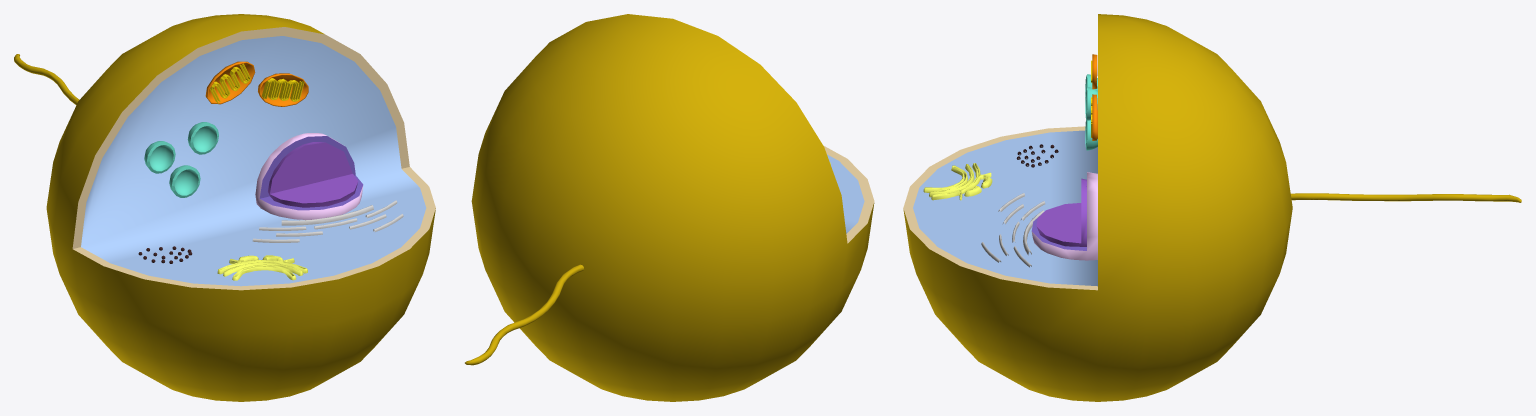
The model's file is animal cell.fbx.
3 views of the same model, side by side, from view 1: azimuth 30°, elevation 25°; view 2: azimuth 150°, elevation 25°; view 3: azimuth 270°, elevation 25° (orthographic). The views are drawn at different scales.
Visible parts, largest first — view 1: Membrana Celular, group_4_ID2442, Mitochondria.041_ID2505.001, Vacuole.006_ID1968, Endoplasmatic reticukum, Golgi_Apparatus.005_ID2373; view 2: Membrana Celular; view 3: Membrana Celular, group_4_ID2442, Golgi_Apparatus.005_ID2373, Endoplasmatic reticukum, Vacuole.006_ID1968, Mitochondria.041_ID2505.001.
Part boxes in pixels (<box>): Membrana Celular: <box>14,14,435,401</box>; group_4_ID2442: <box>255,133,363,219</box>; Mitochondria.041_ID2505.001: <box>205,61,308,106</box>; Vacuole.006_ID1968: <box>144,122,218,197</box>; Endoplasmatic reticukum: <box>252,200,403,242</box>; Golgi_Apparatus.005_ID2373: <box>217,255,307,280</box>; Membrana Celular: <box>465,14,874,401</box>; Membrana Celular: <box>903,14,1521,401</box>; group_4_ID2442: <box>1031,172,1097,260</box>; Golgi_Apparatus.005_ID2373: <box>923,163,992,200</box>; Endoplasmatic reticukum: <box>981,193,1045,267</box>; Vacuole.006_ID1968: <box>1085,74,1097,150</box>; Mitochondria.041_ID2505.001: <box>1091,54,1097,140</box>.
Size of the model in its own units: 351 by 351 by 557.
